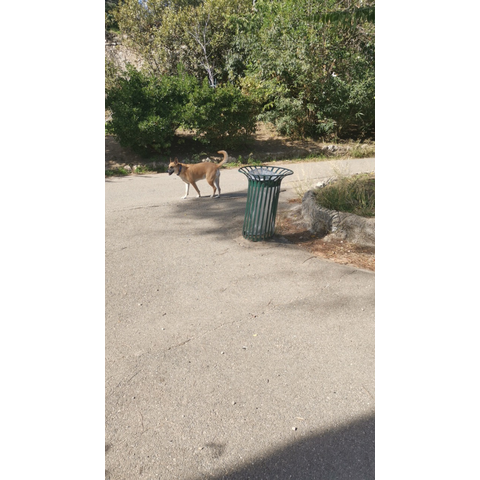poubelle: (236, 164, 297, 244)
